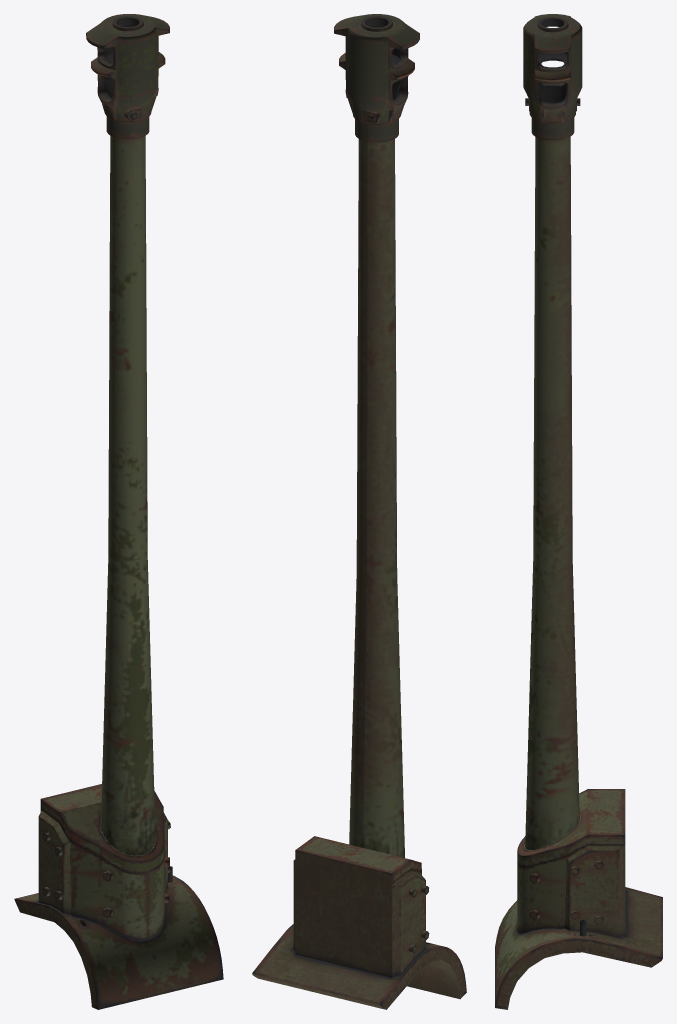
File: Gun_02.glb
3 renders of one model, left to right at view 1: azimuth 30°, elevation 25°; view 2: azimuth 150°, elevation 25°; view 3: azimuth 270°, elevation 25°, orthographic. The views are drawn at different scales.
Parts seen in each view (by area): view 1: set_0_group_0; view 2: set_0_group_0; view 3: set_0_group_0.
Boxes of the visible parts, <box> form: set_0_group_0: <box>14,14,223,1009</box>; set_0_group_0: <box>252,14,466,1009</box>; set_0_group_0: <box>495,14,662,1009</box>.
Bounding box in the file's own units: 0.5513 × 3.97 × 0.6326.
1 material, 1 textured.
